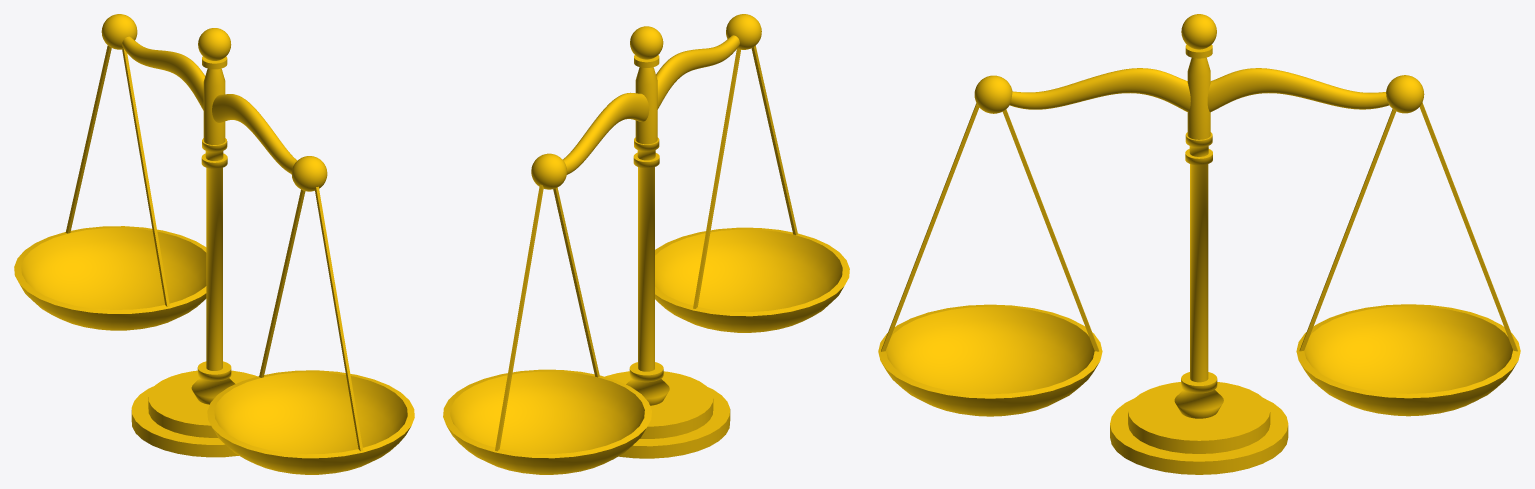
File: ScaleOfJustice.fbx
3 views of the same model, side by side, from view 1: azimuth 30°, elevation 25°; view 2: azimuth 150°, elevation 25°; view 3: azimuth 270°, elevation 25° (orthographic). The views are drawn at different scales.
Parts seen in each view (by area): view 1: Pan1, Pan2, Scale Handle, Beam; view 2: Pan2, Pan1, Scale Handle, Beam; view 3: Pan2, Pan1, Scale Handle, Beam.
Boxes of the visible parts, x1,y1,x2,y2 form: Pan1: (207, 156, 414, 474); Pan2: (14, 14, 206, 330); Scale Handle: (131, 28, 256, 457); Beam: (122, 36, 297, 173); Pan2: (443, 153, 651, 474); Pan1: (655, 14, 849, 332); Scale Handle: (605, 26, 730, 458); Beam: (562, 35, 739, 174); Pan2: (1296, 75, 1520, 416); Pan1: (878, 75, 1102, 416); Scale Handle: (1110, 14, 1288, 474); Beam: (1010, 68, 1388, 112).
Size of the model in its own units: 454 by 940 by 1298.
